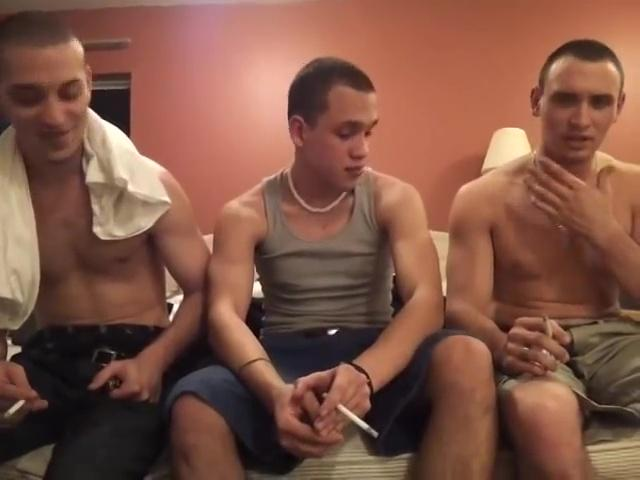cigarette: (336, 403, 384, 440), (1, 396, 27, 419), (542, 313, 555, 340)
